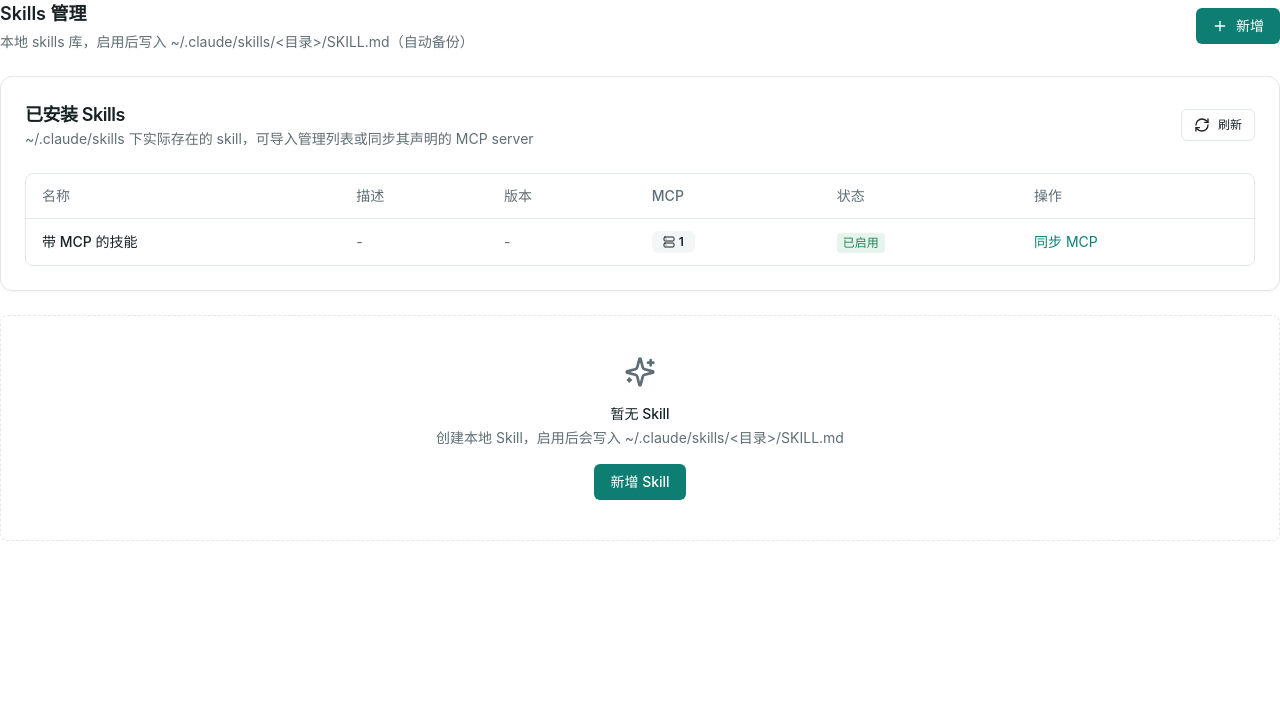
SkillsPage › 新增对话框 pristine：应用禁用且无行内错误（role=alert）
Click the button "新增". click: (1238, 26)
box: [1196,8,1279,44]
(page scrolled)
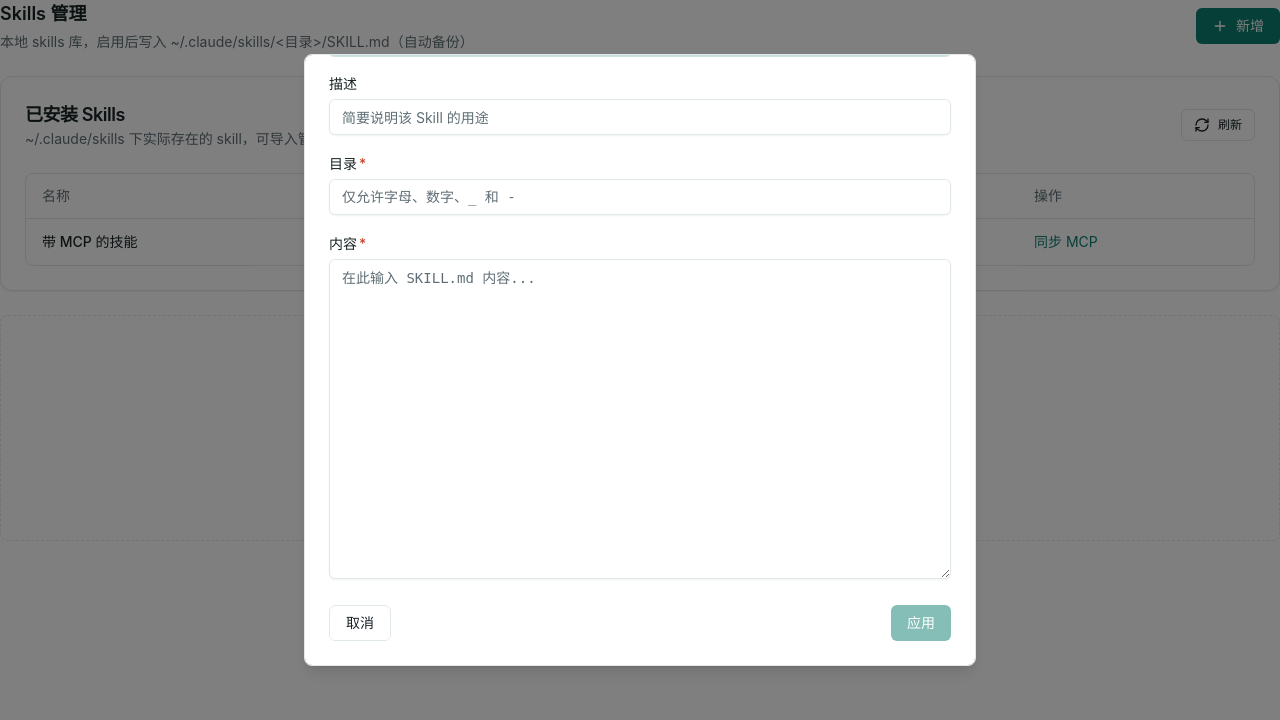
Result: the button "应用" is disabled at [891,605,951,641]
